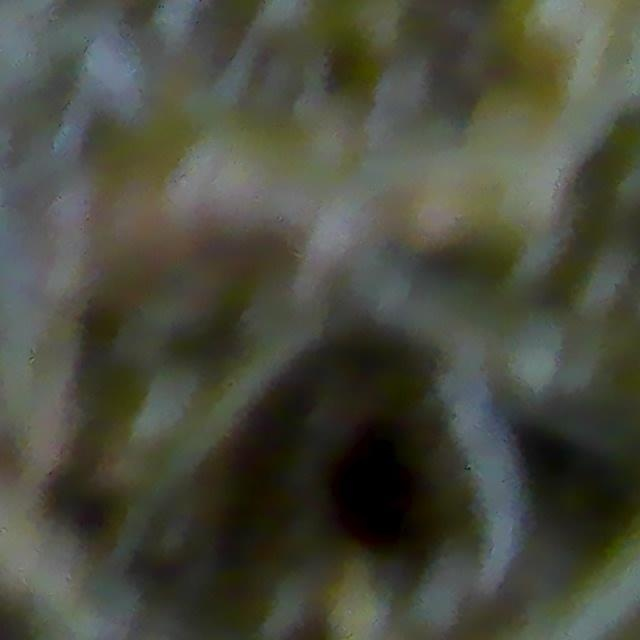SeaGrape: (499, 314, 571, 396)
